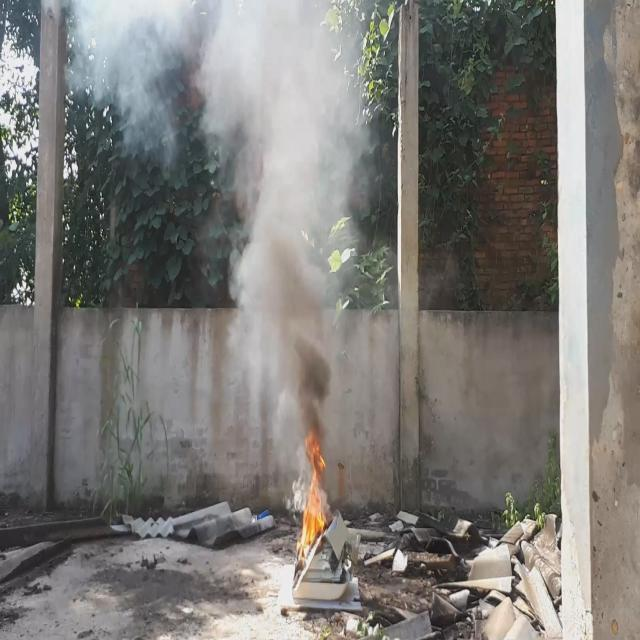Fire: (295, 427, 330, 564)
Smoke: (65, 0, 373, 450)
